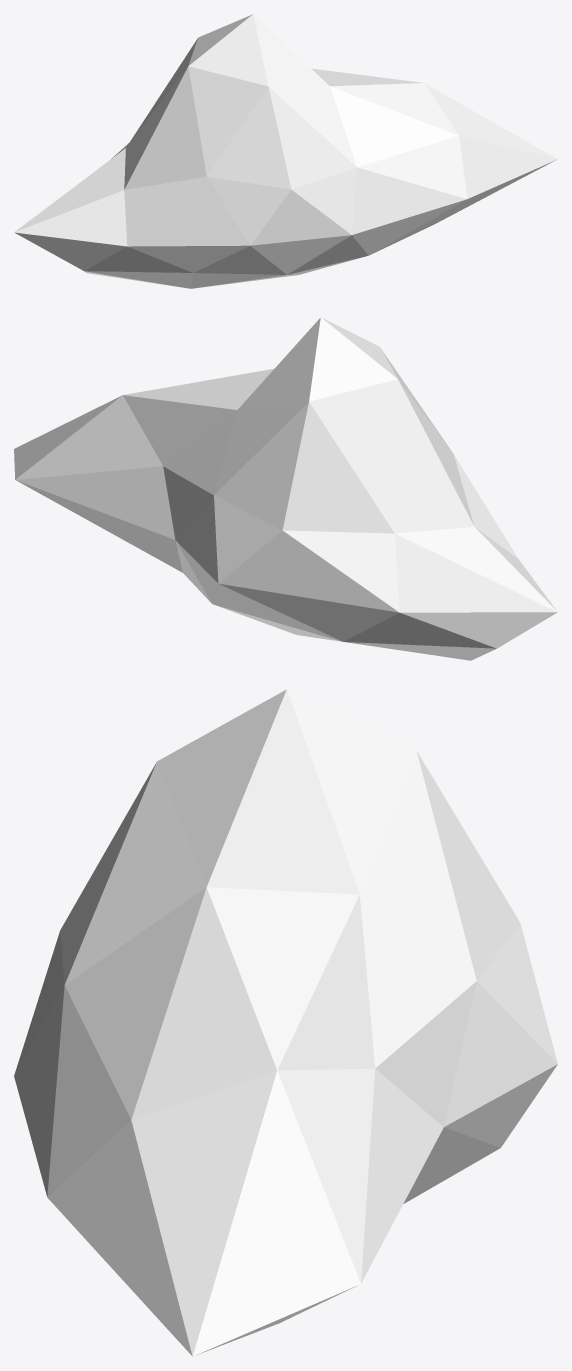
The model's file is Nuvem.FBX.
The picture shows the model from 3 angles, top to bottom: view 1: azimuth 30°, elevation 25°; view 2: azimuth 150°, elevation 25°; view 3: azimuth 270°, elevation 25°; orthographic projection. The views are drawn at different scales.
Visible parts, largest first — view 1: Nuvem; view 2: Nuvem; view 3: Nuvem.
Boxes of the visible parts, bbox=[...] form: Nuvem: bbox=[14, 14, 557, 288]; Nuvem: bbox=[14, 317, 557, 660]; Nuvem: bbox=[14, 689, 557, 1356].
Bounding box in the file's own units: 182 × 87.28 × 85.79.
